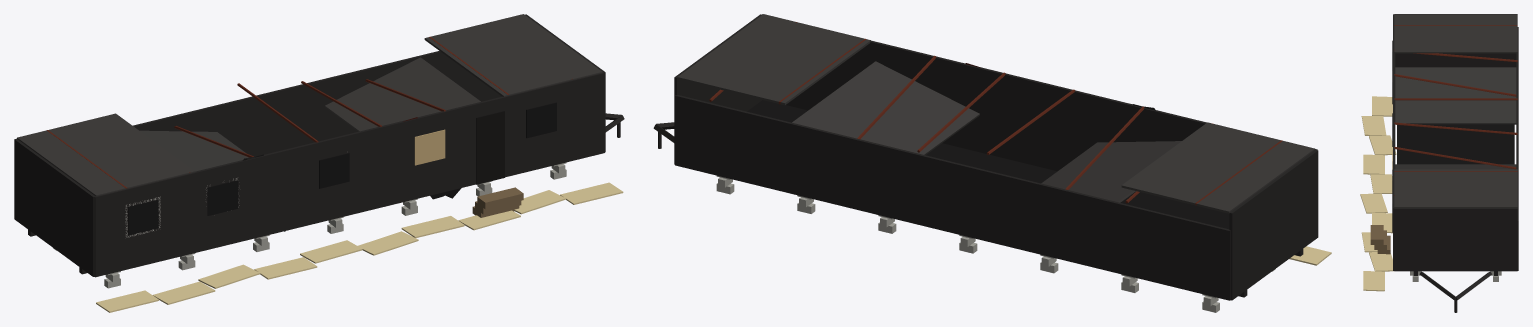
File: trailer_burnt.glb
3 renders of one model, left to right at view 1: azimuth 30°, elevation 25°; view 2: azimuth 150°, elevation 25°; view 3: azimuth 270°, elevation 25°, orthographic. The views are drawn at different scales.
Visible parts, largest first — view 1: trailer_burnt; view 2: trailer_burnt; view 3: trailer_burnt.
Boxes of the visible parts, x1,y1,x2,y2 form: trailer_burnt: [14, 14, 624, 312]; trailer_burnt: [653, 14, 1331, 312]; trailer_burnt: [1360, 14, 1518, 312].
Bounding box in the file's own units: 17.89 × 3.27 × 5.52.
